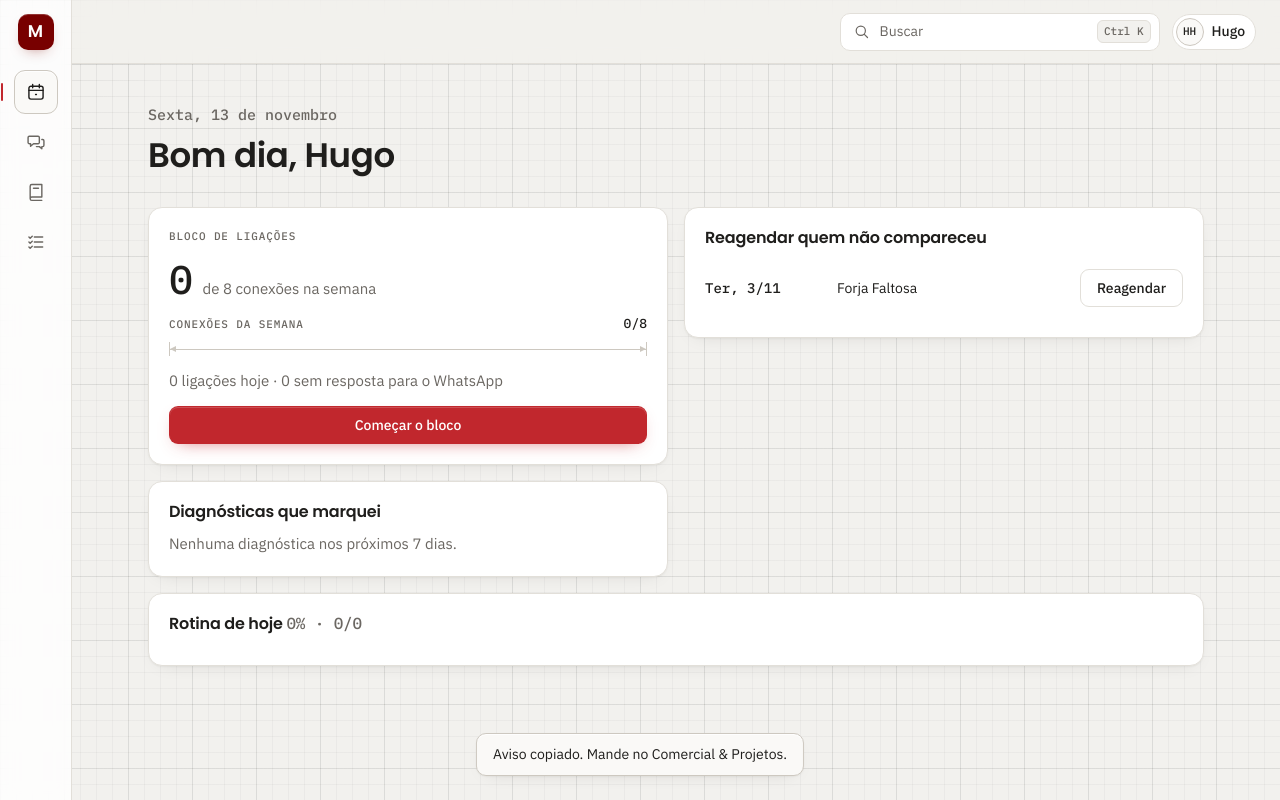
Test: o Hoje do hunter reagenda em foco a diagnóstica em que o cliente não compareceu
Click the button with aria-label "Reagendar Forja Faltosa". click: (1131, 288)
box: [1080,270,1183,308]
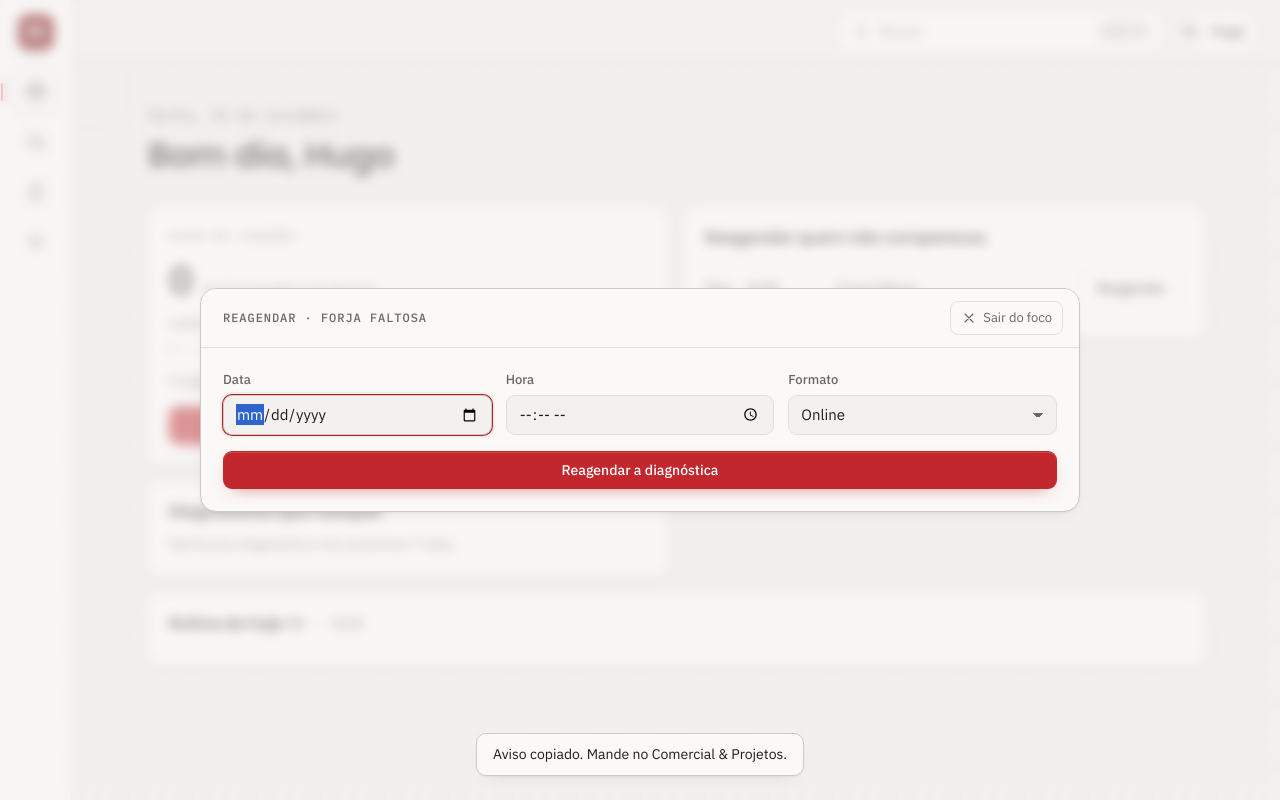
Type "2099-01-06" into the date field labelled "Data". click: (357, 415)
box: [223,395,492,435]
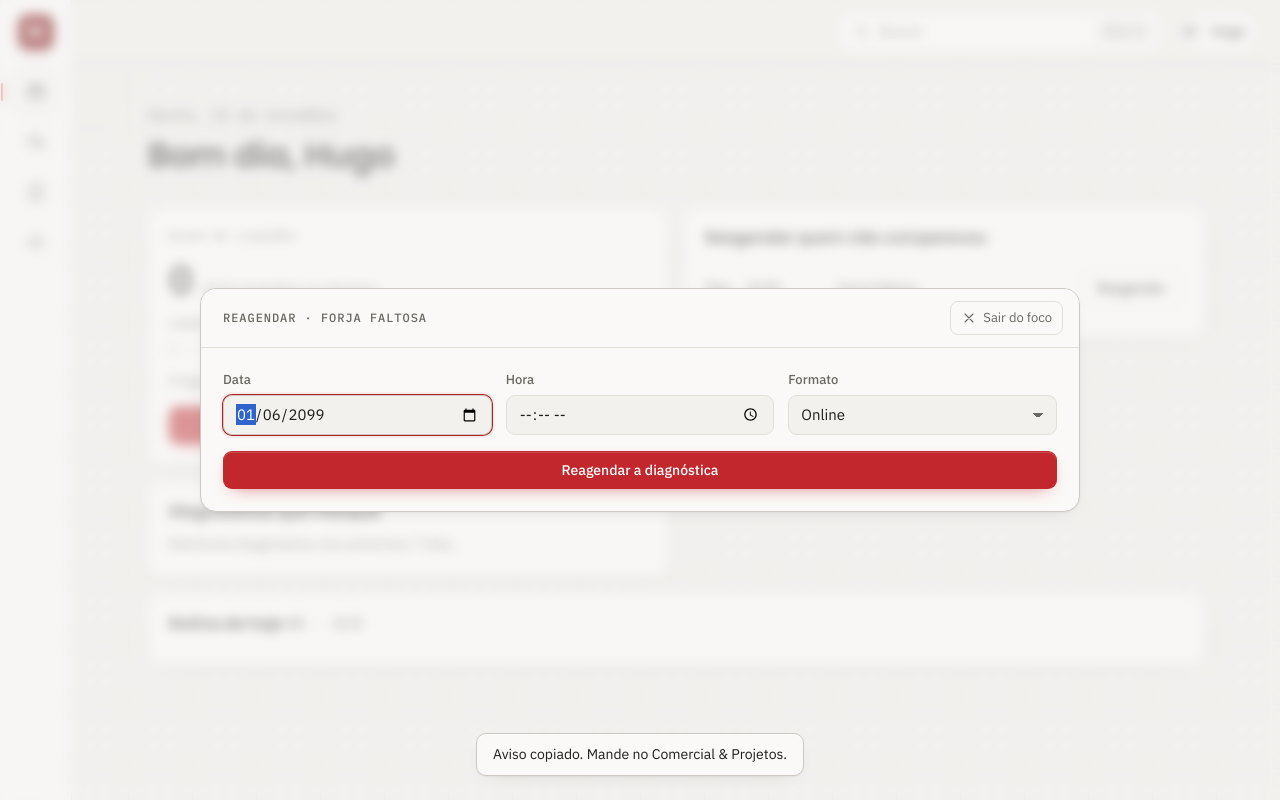
Type "10:00" into the time field labelled "Hora". click: (640, 415)
box: [506,395,774,435]
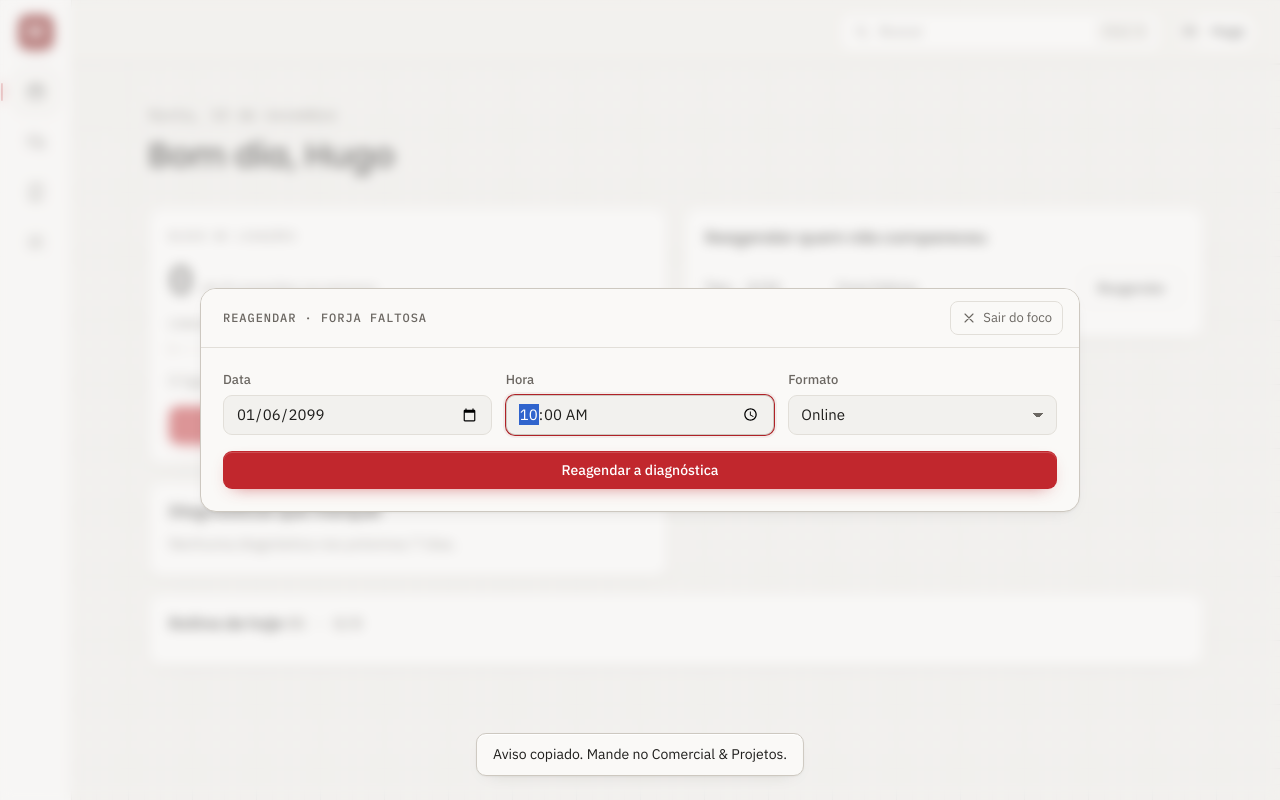
Click the button "Reagendar a diagnóstica". click: (640, 470)
box: [223,451,1057,489]
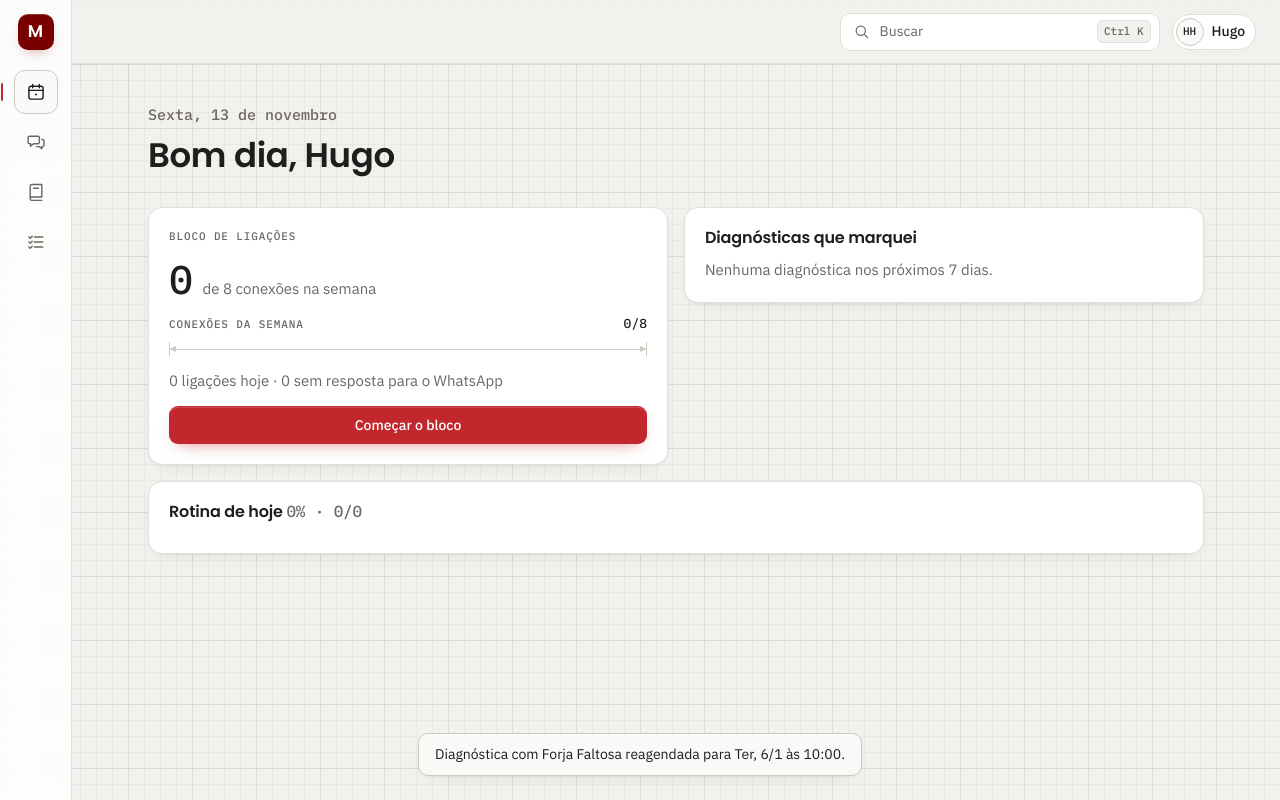
Now the heading "Reagendar" is gone
